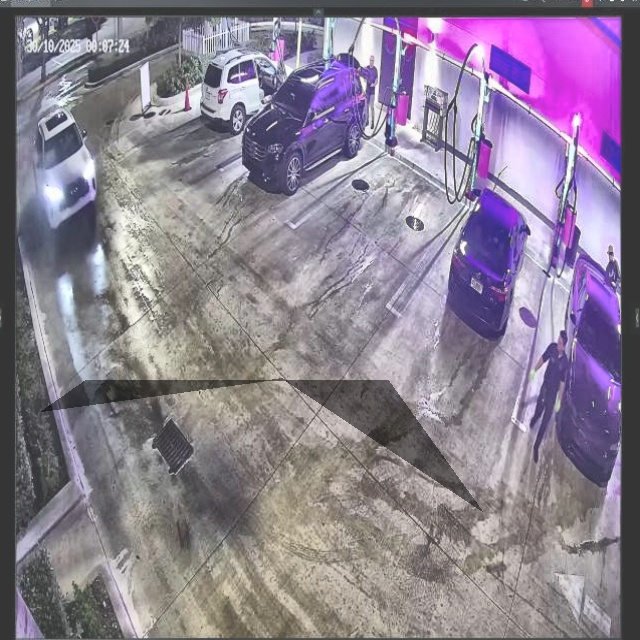Car: (243, 44, 363, 188), (450, 186, 528, 330)
